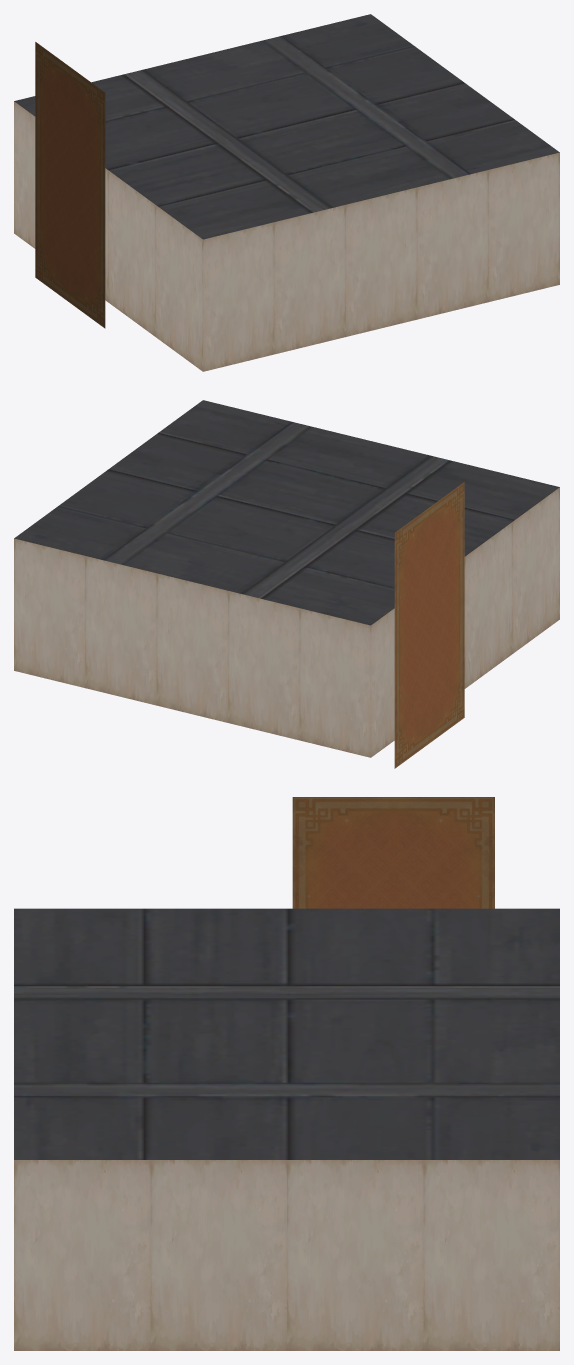
The model's file is IndoorScene_Dq_Teahouse.fbx.
3 views of the same model, one above another, from view 1: azimuth 30°, elevation 25°; view 2: azimuth 150°, elevation 25°; view 3: azimuth 270°, elevation 25° (orthographic). The views are drawn at different scales.
Parts seen in each view (by area): view 1: Indoor_Dq_Build_Teahouse_Filling_Vo, Area_Ly_Prop_Common_Blanket_A_05_Vo; view 2: Indoor_Dq_Build_Teahouse_Filling_Vo, Area_Ly_Prop_Common_Blanket_A_05_Vo; view 3: Indoor_Dq_Build_Teahouse_Filling_Vo, Area_Ly_Prop_Common_Blanket_A_05_Vo.
Part boxes in pixels (<box>): Indoor_Dq_Build_Teahouse_Filling_Vo: <box>14,14,559,371</box>; Area_Ly_Prop_Common_Blanket_A_05_Vo: <box>35,42,105,328</box>; Indoor_Dq_Build_Teahouse_Filling_Vo: <box>14,400,559,757</box>; Area_Ly_Prop_Common_Blanket_A_05_Vo: <box>394,482,464,768</box>; Indoor_Dq_Build_Teahouse_Filling_Vo: <box>14,908,559,1350</box>; Area_Ly_Prop_Common_Blanket_A_05_Vo: <box>292,797,494,908</box>.
Size of what is drawn, in the model's own units: 26.22 by 16.51 by 23.97.
